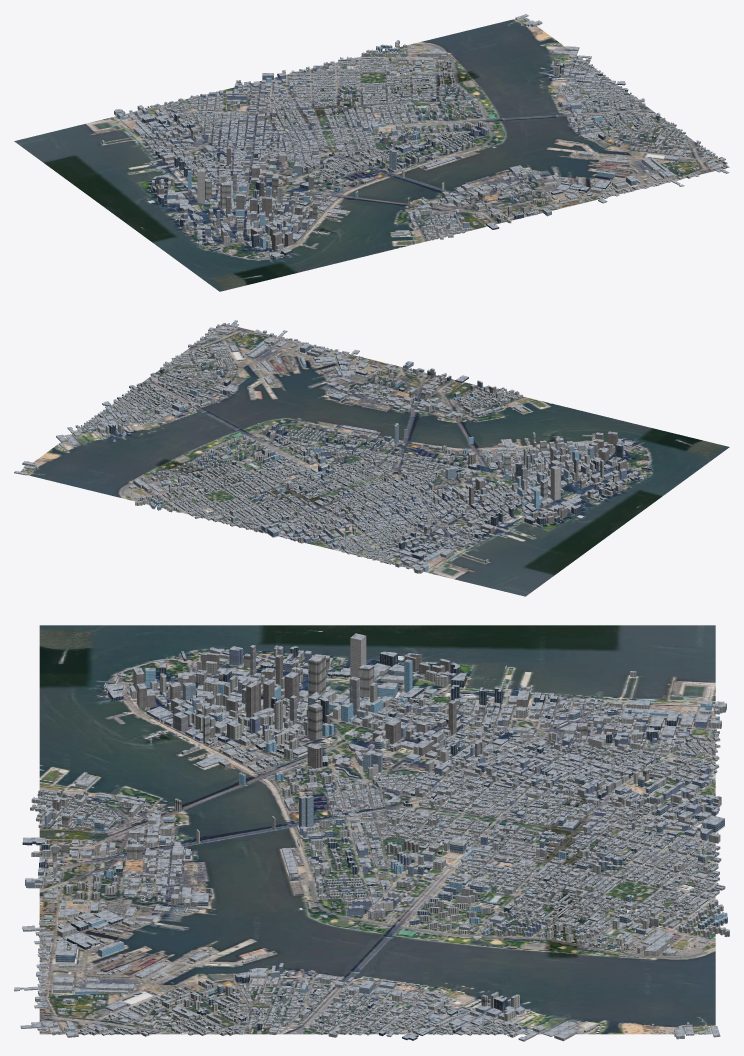
File: uploads_files_2711294_manhattan.gltf
3 renders of one model, top to bottom at view 1: azimuth 30°, elevation 25°; view 2: azimuth 150°, elevation 25°; view 3: azimuth 270°, elevation 25°, orthographic. The views are drawn at different scales.
Parts seen in each view (by area): view 1: EXPORT_GOOGLE_SAT_WM, Areas:building; view 2: EXPORT_GOOGLE_SAT_WM, Areas:building; view 3: EXPORT_GOOGLE_SAT_WM, Areas:building.
Part boxes in pixels (x1,y1,x2,y2): EXPORT_GOOGLE_SAT_WM: (14, 17, 729, 291); Areas:building: (101, 14, 729, 259); EXPORT_GOOGLE_SAT_WM: (21, 324, 729, 596); Areas:building: (14, 320, 651, 573); EXPORT_GOOGLE_SAT_WM: (39, 625, 715, 1034); Areas:building: (14, 633, 729, 1041).
Size of the model in its own units: 7129 by 410 by 5180.
Materials: 12 (12 with a texture image).
